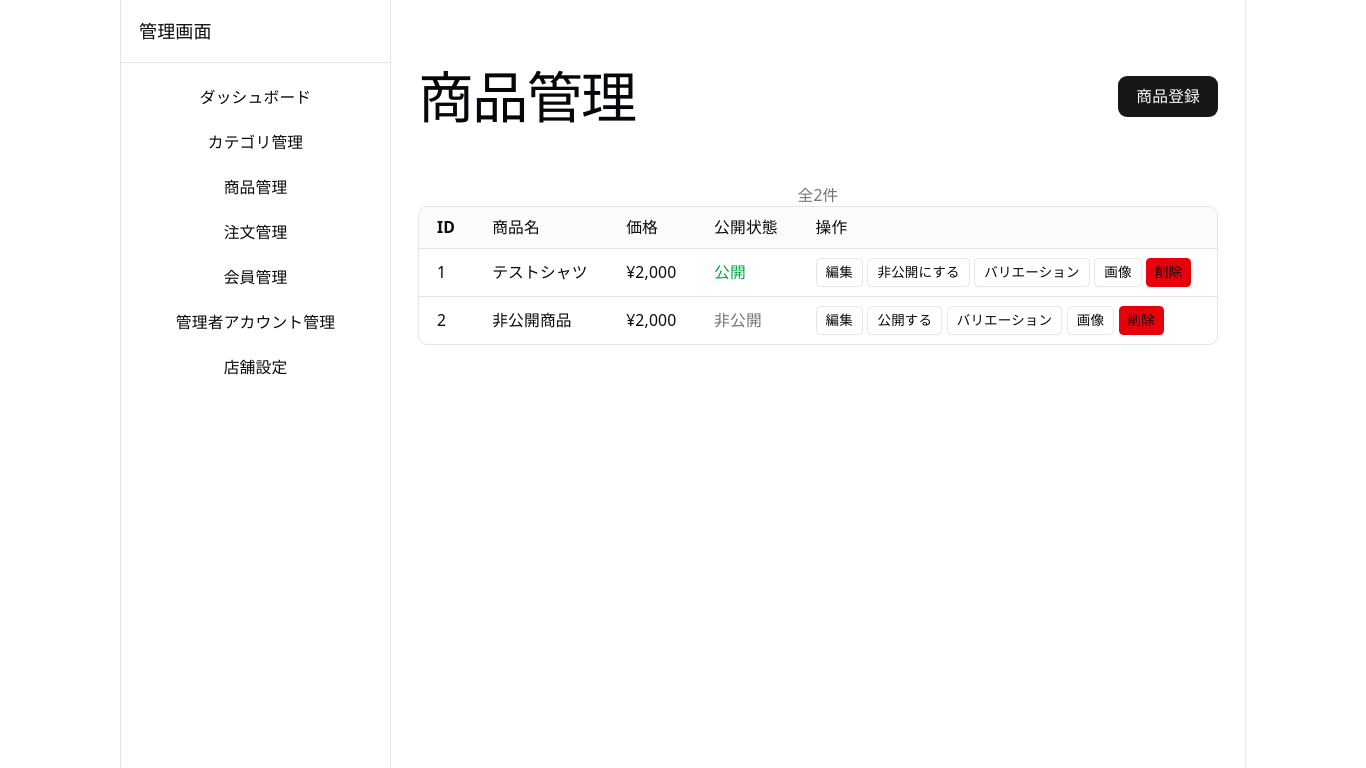
Test case: AdminProductsPage › 「商品登録」ボタンをクリックするとフォームが表示されること
The width and height of the screenshot is (1366, 768).
Expected: the text "テストシャツ" is shown, [474,248,608,296]
Click the button "商品登録".
click(1168, 96)  # box [1118,76,1218,117]
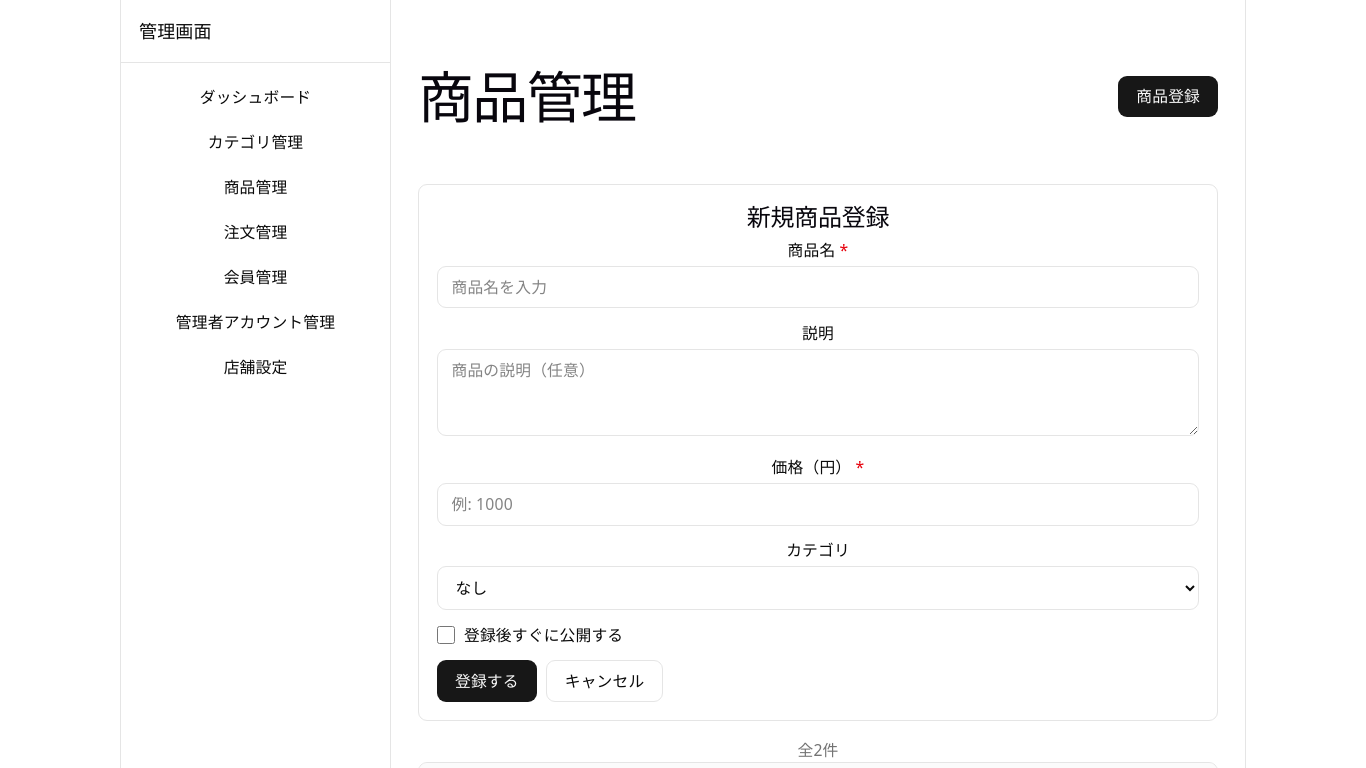
Expected: the form named "商品登録フォーム" is shown, [418,184,1218,721]
